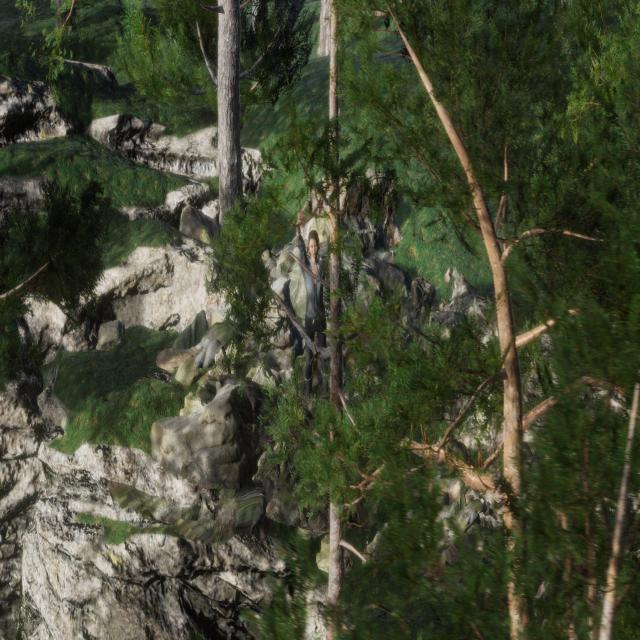Human: (288, 188, 340, 444)
